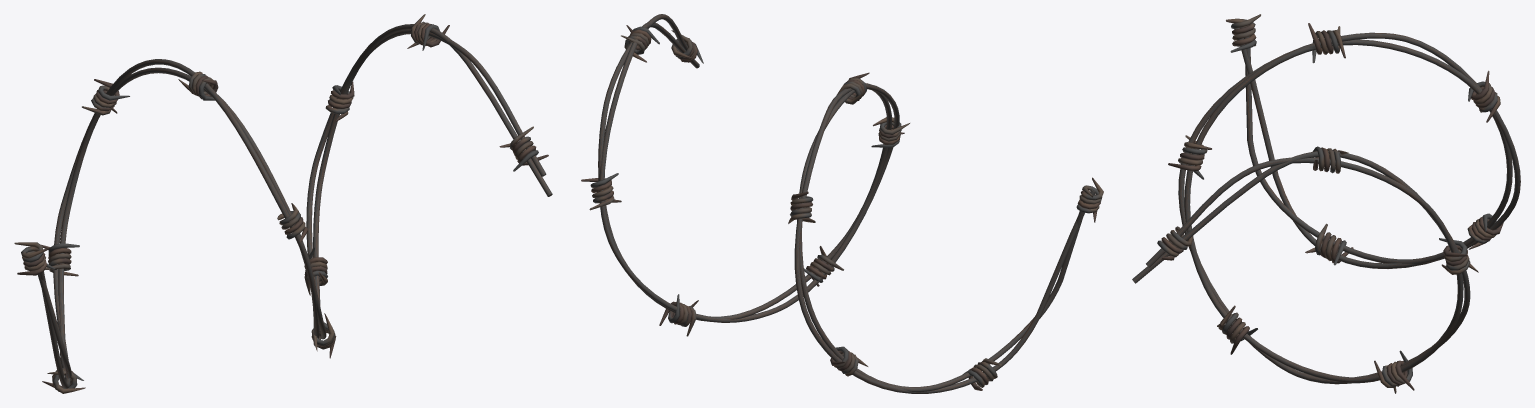
File: barbed.glb
3 renders of one model, left to right at view 1: azimuth 30°, elevation 25°; view 2: azimuth 150°, elevation 25°; view 3: azimuth 270°, elevation 25°, orthographic. The views are drawn at different scales.
Parts seen in each view (by area): view 1: Rail_by_daftvid, Rail_Wire, Rail_Wire_11, Rail_Wire_4, Rail_Wire_3, Rail_Wire_9, Rail_Wire_10, Rail_Wire_6, Rail_Wire_5, Rail_Wire_8; view 2: Rail_by_daftvid, Rail_Wire_9, Rail_Wire_8, Rail_Wire, Rail_Wire_2, Rail_Wire_7, Rail_Wire_10, Rail_Wire_6, Rail_Wire_4, Rail_Wire_3, Rail_Wire_5; view 3: Rail_by_daftvid, Rail_Wire_5, Rail_Wire_2, Rail_Wire_8, Rail_Wire, Rail_Wire_6, Rail_Wire_7, Rail_Wire_4, Rail_Wire_9, Rail_Wire_11, Rail_Wire_10, Rail_Wire_3.
Part boxes in pixels (box(x1,y1,x2,y2)): Rail_by_daftvid: box(38, 24, 552, 388); Rail_Wire: box(14, 242, 56, 275); Rail_Wire_11: box(499, 126, 548, 171); Rail_Wire_4: box(82, 79, 129, 115); Rail_Wire_3: box(41, 243, 79, 276); Rail_Wire_9: box(325, 82, 354, 122); Rail_Wire_10: box(407, 14, 449, 50); Rail_Wire_6: box(277, 203, 307, 242); Rail_Wire_5: box(178, 71, 218, 100); Rail_Wire_8: box(304, 247, 327, 295); Rail_by_daftvid: box(598, 14, 1095, 393); Rail_Wire_9: box(581, 173, 621, 210); Rail_Wire_8: box(659, 294, 698, 336); Rail_Wire: box(1076, 177, 1103, 222); Rail_Wire_2: box(962, 358, 1001, 390); Rail_Wire_7: box(804, 246, 843, 286); Rail_Wire_10: box(621, 25, 659, 62); Rail_Wire_6: box(871, 117, 909, 147); Rail_Wire_4: box(788, 191, 815, 223); Rail_Wire_3: box(830, 346, 868, 376); Rail_Wire_5: box(836, 72, 869, 104); Rail_by_daftvid: box(1132, 28, 1520, 384); Rail_Wire_5: box(1308, 23, 1345, 63); Rail_Wire_2: box(1305, 223, 1353, 265); Rail_Wire_8: box(1374, 350, 1414, 393); Rail_Wire: box(1226, 14, 1260, 52); Rail_Wire_6: box(1168, 135, 1211, 179); Rail_Wire_7: box(1217, 305, 1257, 354); Rail_Wire_4: box(1468, 70, 1500, 122); Rail_Wire_9: box(1439, 238, 1478, 274); Rail_Wire_11: box(1157, 226, 1192, 260); Rail_Wire_10: box(1312, 146, 1348, 173); Rail_Wire_3: box(1467, 213, 1503, 249).
Bounding box in the file's own units: 773 × 441 × 510.
Materials: 1 (1 with a texture image).
